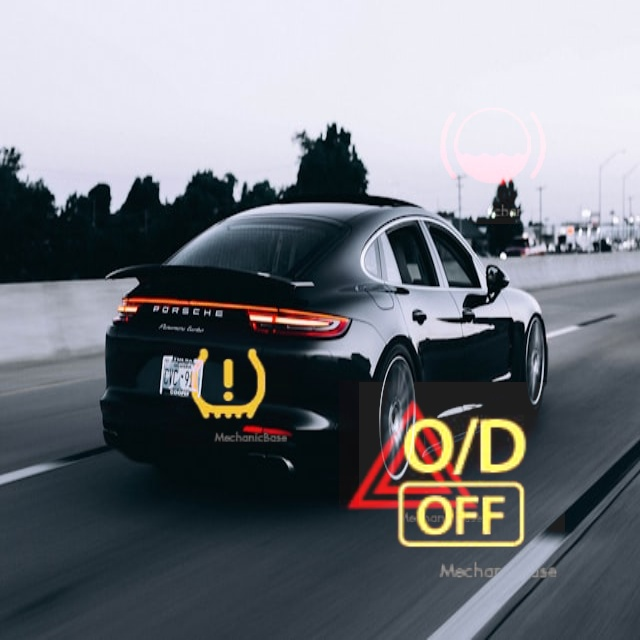symbol: (359, 382, 565, 588), (415, 69, 570, 224), (339, 380, 489, 530), (165, 321, 292, 448)
